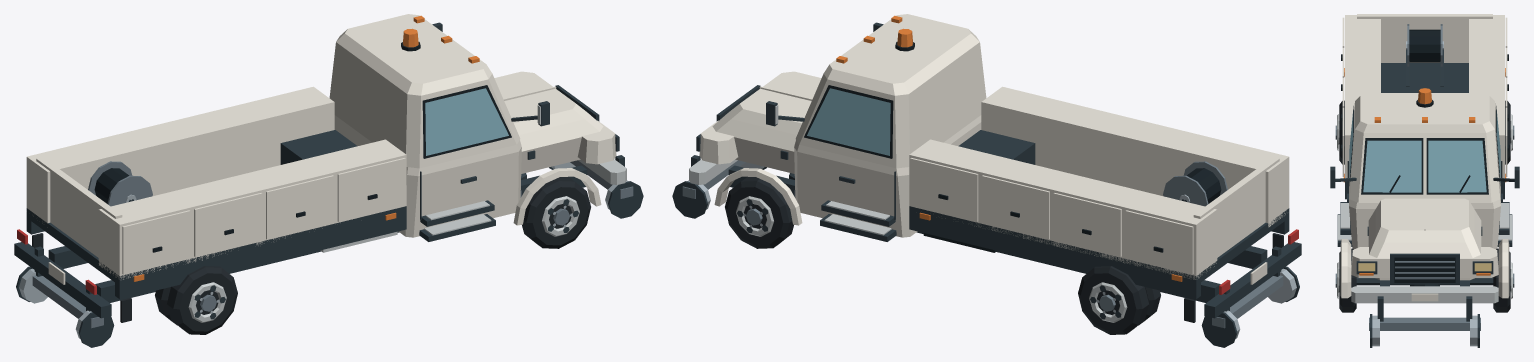
Rendered from b15_hi_rail_utility_truck.glb.
3 views of the same model, side by side, from view 1: azimuth 30°, elevation 25°; view 2: azimuth 150°, elevation 25°; view 3: azimuth 270°, elevation 25° (orthographic). The views are drawn at different scales.
Parts seen in each view (by area): view 1: b15_hi_rail_utility_truck; view 2: b15_hi_rail_utility_truck; view 3: b15_hi_rail_utility_truck.
Boxes of the visible parts, x1,y1,x2,y2 form: b15_hi_rail_utility_truck: [14, 14, 643, 347]; b15_hi_rail_utility_truck: [672, 14, 1301, 347]; b15_hi_rail_utility_truck: [1330, 14, 1519, 347].
Bounding box in the file's own units: 8.35 × 2.93 × 2.83.
